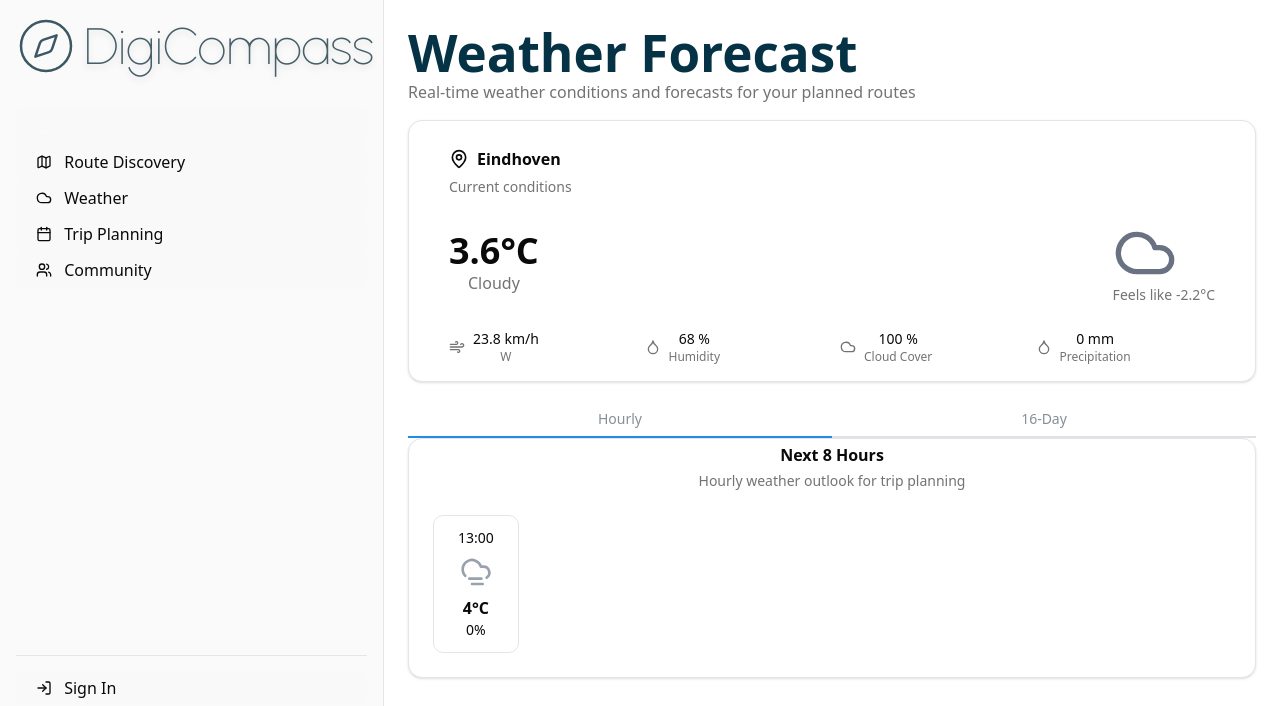
Test: Weather Forecast Page › shows daily forecast after clicking 16-Day tab
Click the tab "16-Day" at coordinates (1044, 420), box [832,402,1256,438]
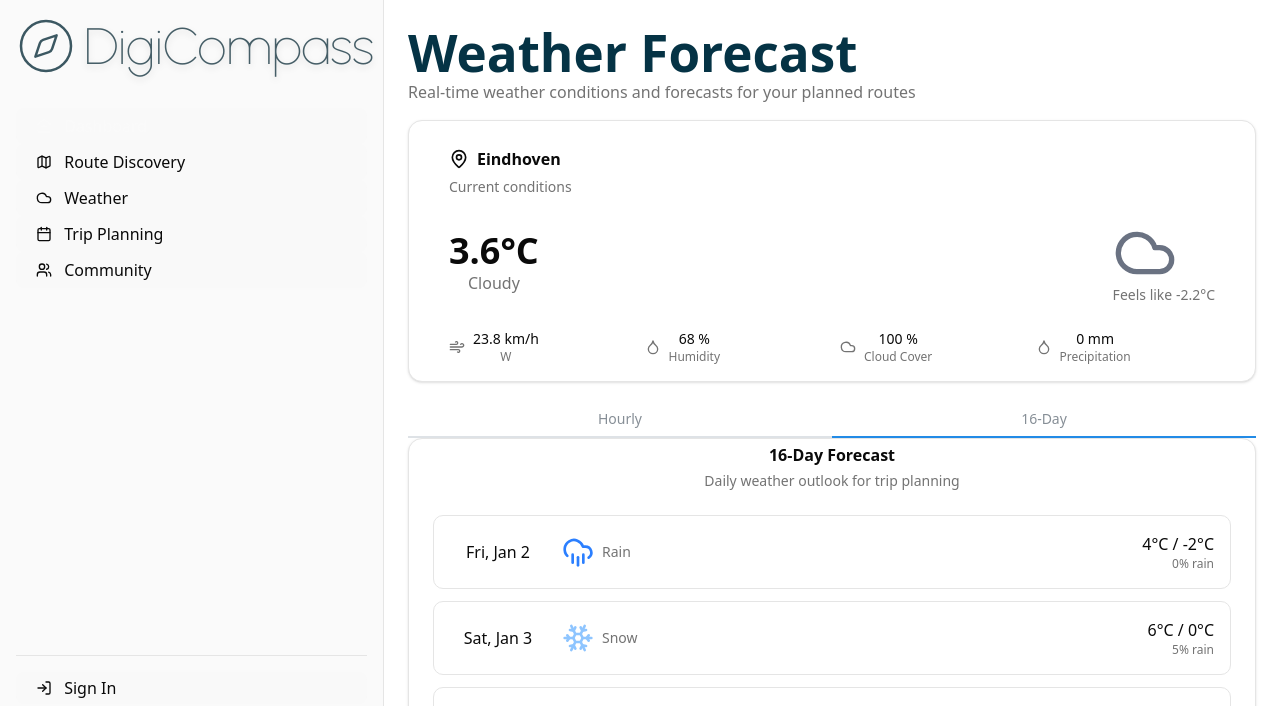
expect the text "16-Day Forecast" is shown: met, box [769,444,895,466]
expect the text "Fri, Jan 2" is shown: met, box [466,541,530,563]
expect the text "4°C / -2°C" is shown: met, box [1142,532,1214,556]
